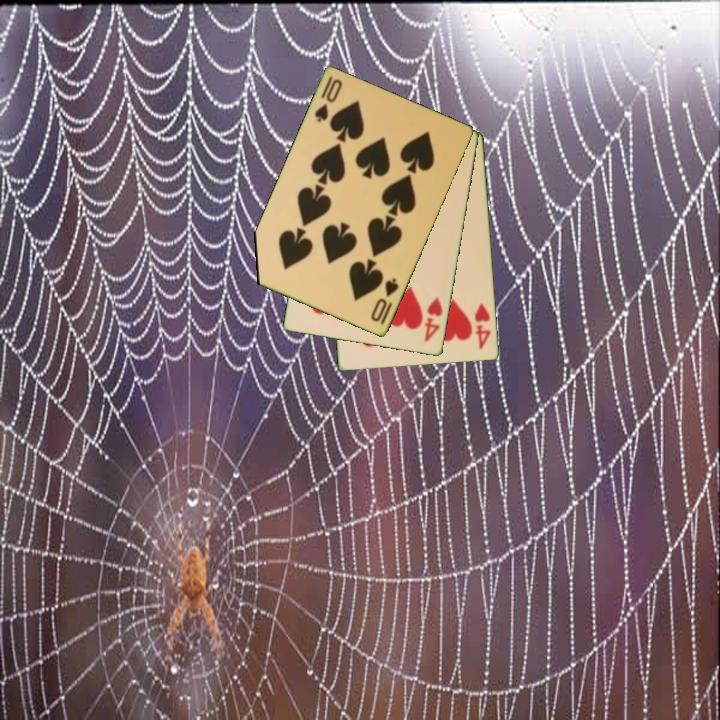10s: (367, 275, 402, 328), (311, 73, 345, 126)
4h: (420, 294, 446, 345), (471, 300, 494, 353)
